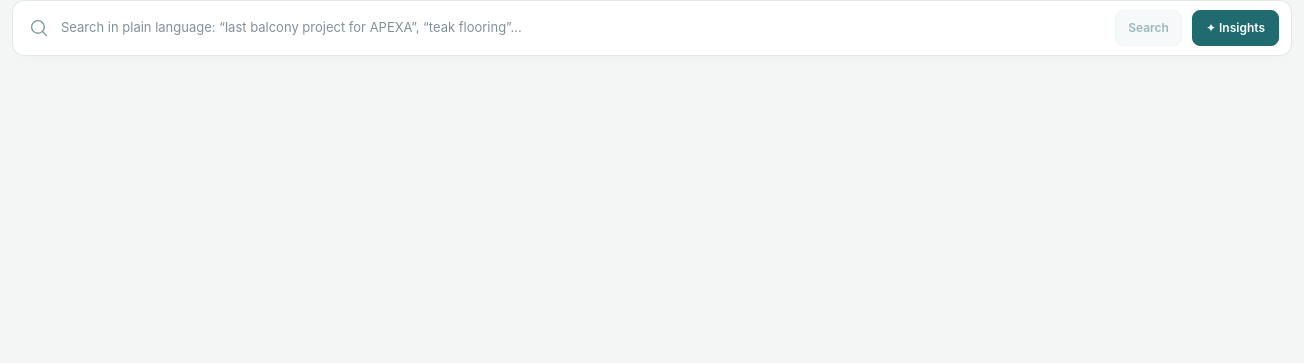
it: Project search and workspace › finds and opens an actual project, clearly labelling preview results
Later steps or results of the test are not shown.
Step 1. Type "last balcony for APEXA" into the field named "Search everything in plain language" → (582, 28), box [59, 10, 1105, 46]
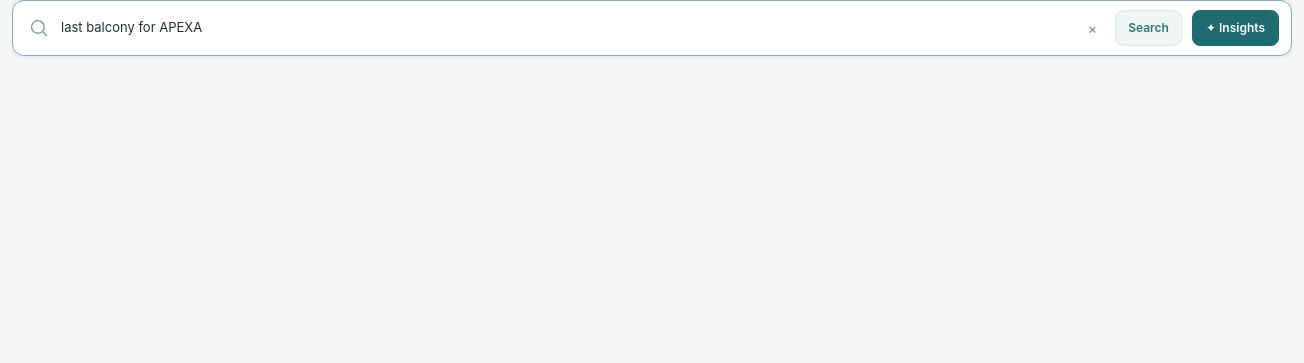
Step 2. Click the button "Search" → click(1149, 28), box [1115, 10, 1182, 46]
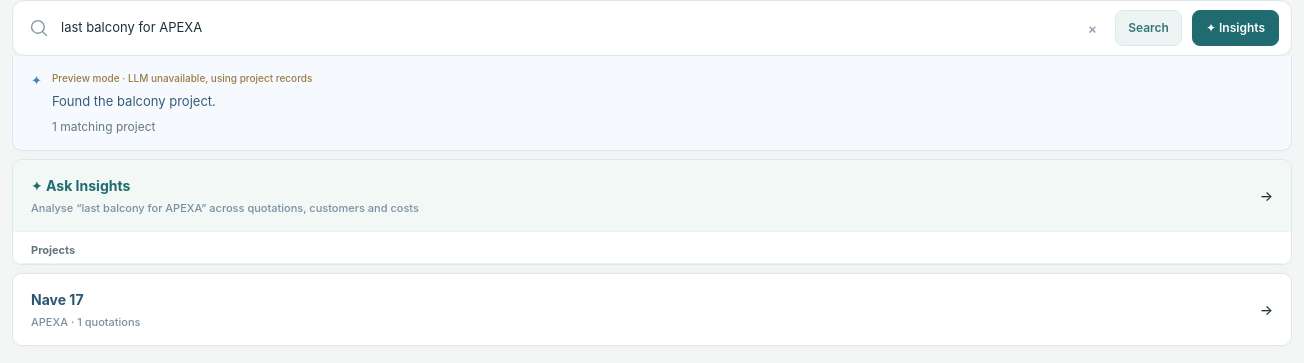
expect the text "Found the balcony project." is shown: met, box [52, 93, 216, 109]
expect the text "Preview mode · LLM unavailable, using project records" is shown: met, box [52, 72, 312, 84]
